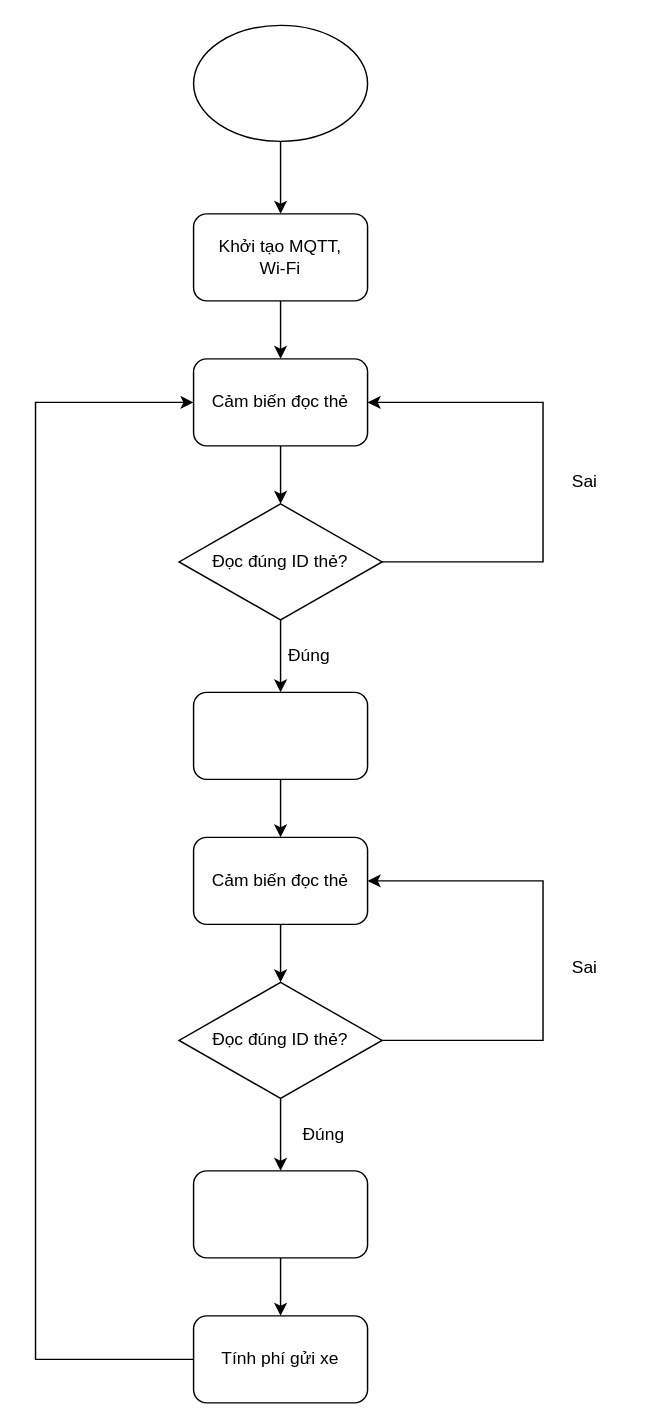
Image size: 654x1428. Some labels were removed from this diagram. The shapes that lost their labels are listed below. From the top down, each one's centre as x and y in pixels, then its label:
the point at 280,82: Bắt đầu
the point at 280,735: Mở cửa (delay 3s rồi đóng) + Tính thời gian gửi xe
the point at 280,1213: Mở cửa (delay 3s rồi đóng) + Ngừng thời gian gửi xe
